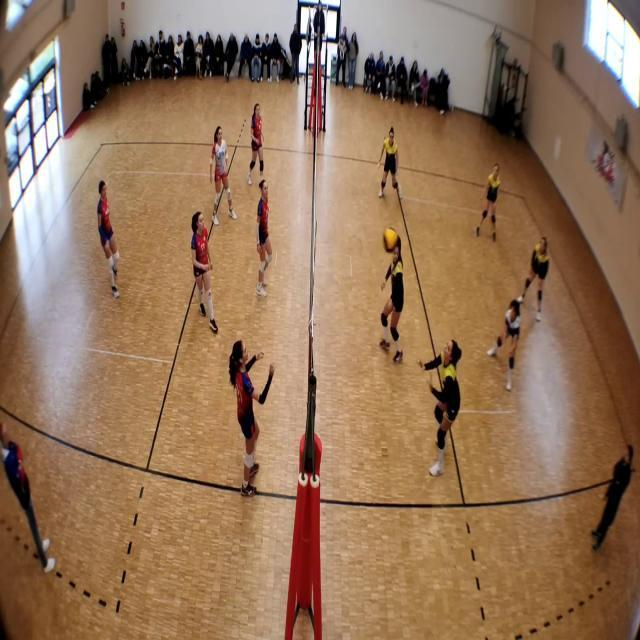volleyball: (382, 228, 398, 254)
